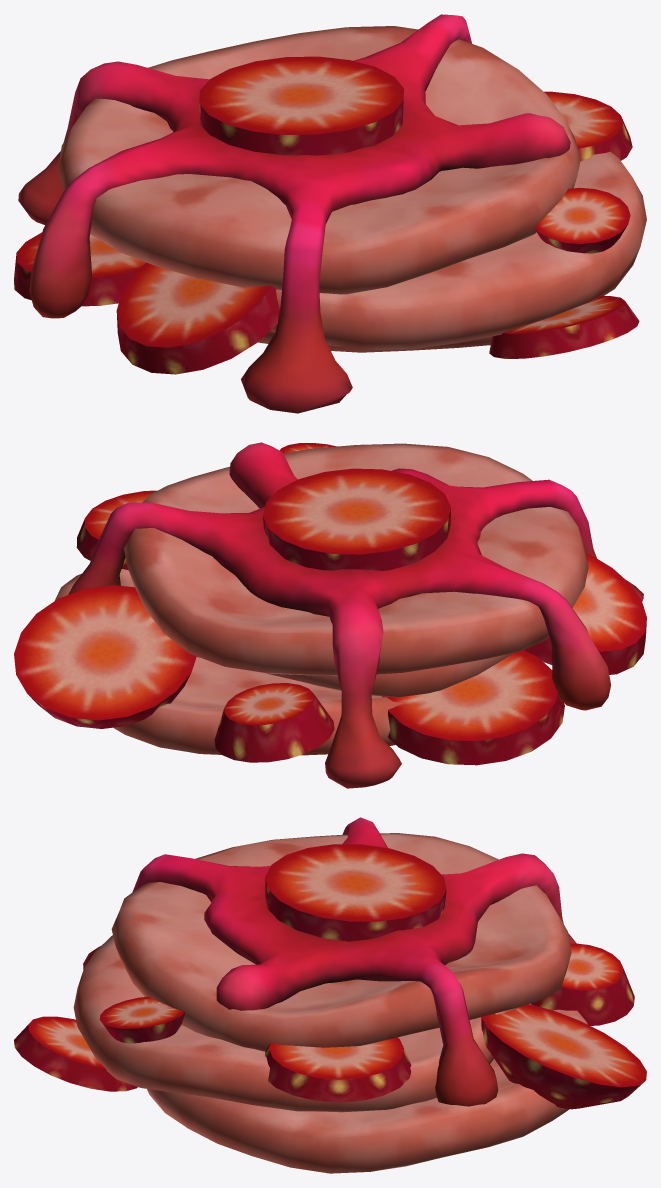
Rendered from m_recipe_strawberry_pancake_01.fbx.
3 views of the same model, one above another, from view 1: azimuth 30°, elevation 25°; view 2: azimuth 150°, elevation 25°; view 3: azimuth 270°, elevation 25° (orthographic). The views are drawn at different scales.
Parts seen in each view (by area): view 1: m_recipe_strawberry_pancake_01_0; view 2: m_recipe_strawberry_pancake_01_0; view 3: m_recipe_strawberry_pancake_01_0.
Part boxes in pixels (left/top/right/bottom): m_recipe_strawberry_pancake_01_0: left=14, top=14, right=646, bottom=413; m_recipe_strawberry_pancake_01_0: left=14, top=442, right=646, bottom=788; m_recipe_strawberry_pancake_01_0: left=14, top=817, right=646, bottom=1173.
Bounding box in the file's own units: 0.719 × 0.234 × 0.7714.
Materials: 1 (1 with a texture image).
